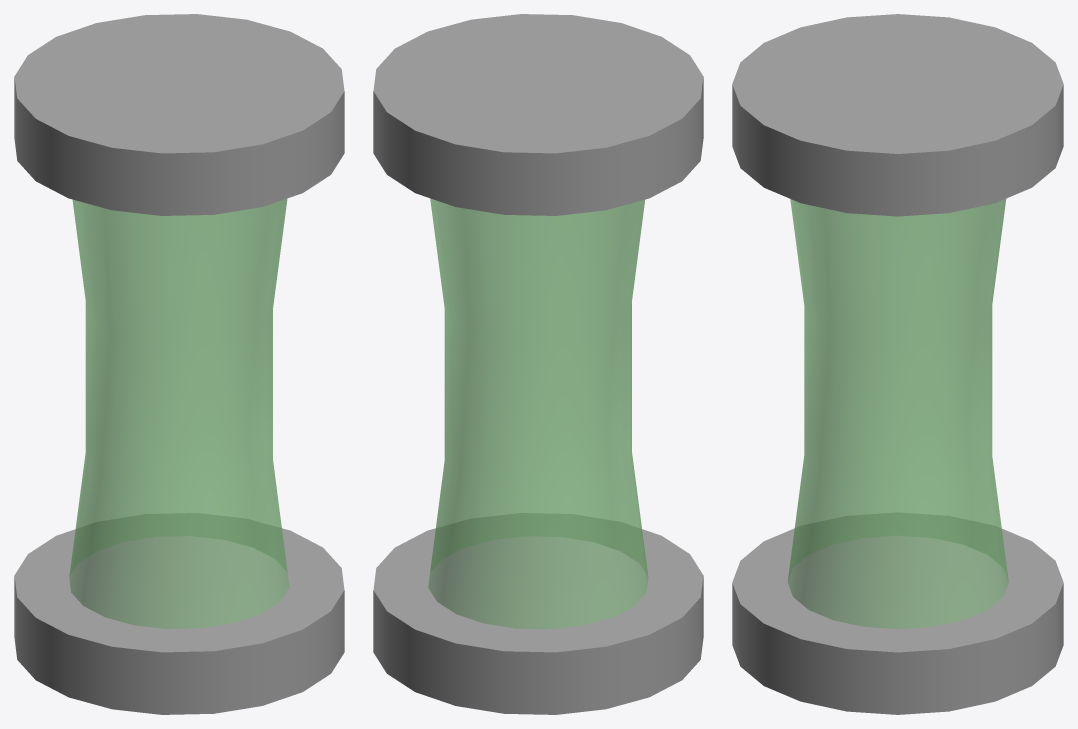
Rendered from PH_EnergyPillar_01.fbx.
The picture shows the model from 3 angles, left to right: view 1: azimuth 30°, elevation 25°; view 2: azimuth 150°, elevation 25°; view 3: azimuth 270°, elevation 25°; orthographic projection.
Visible parts, largest first — view 1: polySurface29; view 2: polySurface29; view 3: polySurface29.
Part boxes in pixels (x1,y1,x2,y2): polySurface29: (14,14,344,714); polySurface29: (373,14,703,714); polySurface29: (732,14,1063,714).
Bounding box in the file's own units: 207 × 387 × 207.
